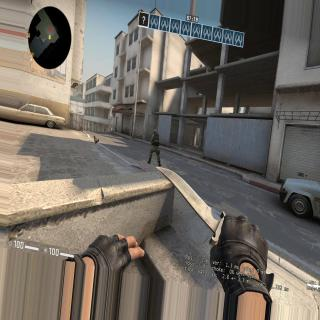CT-Body: (150, 130, 160, 162)
CT-Head: (154, 130, 158, 135)
